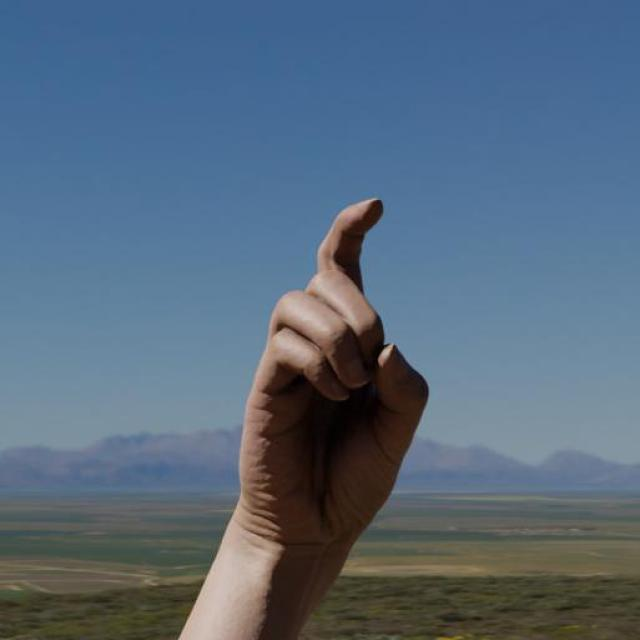X: (184, 176, 452, 578)
